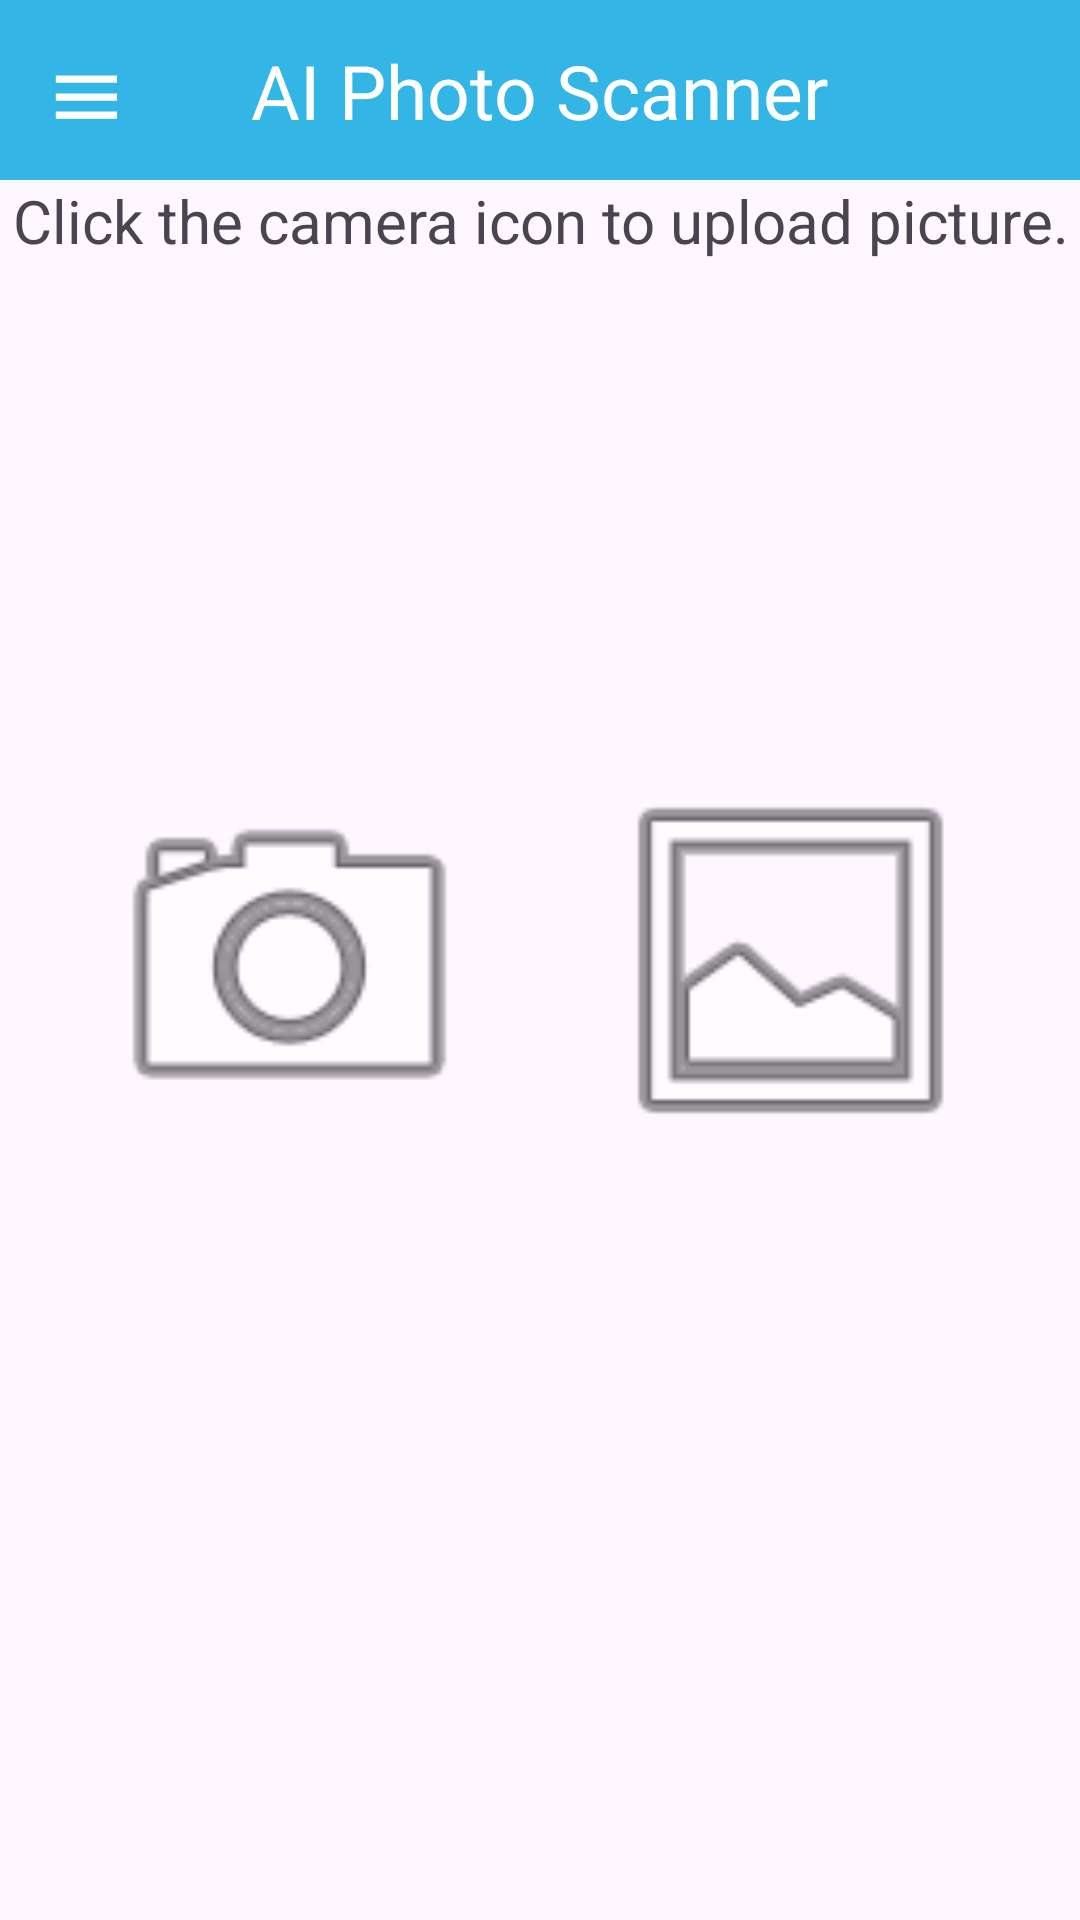

Screen size 1080×1920. Icon name, then its center in pixels as [x,y]:
camera: [289,954]
gallery: [790,960]
menu: [86,97]
